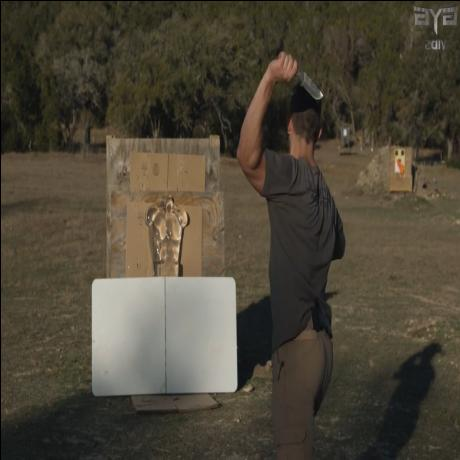1: (236, 40, 346, 448)
weapon: (292, 61, 324, 101)
